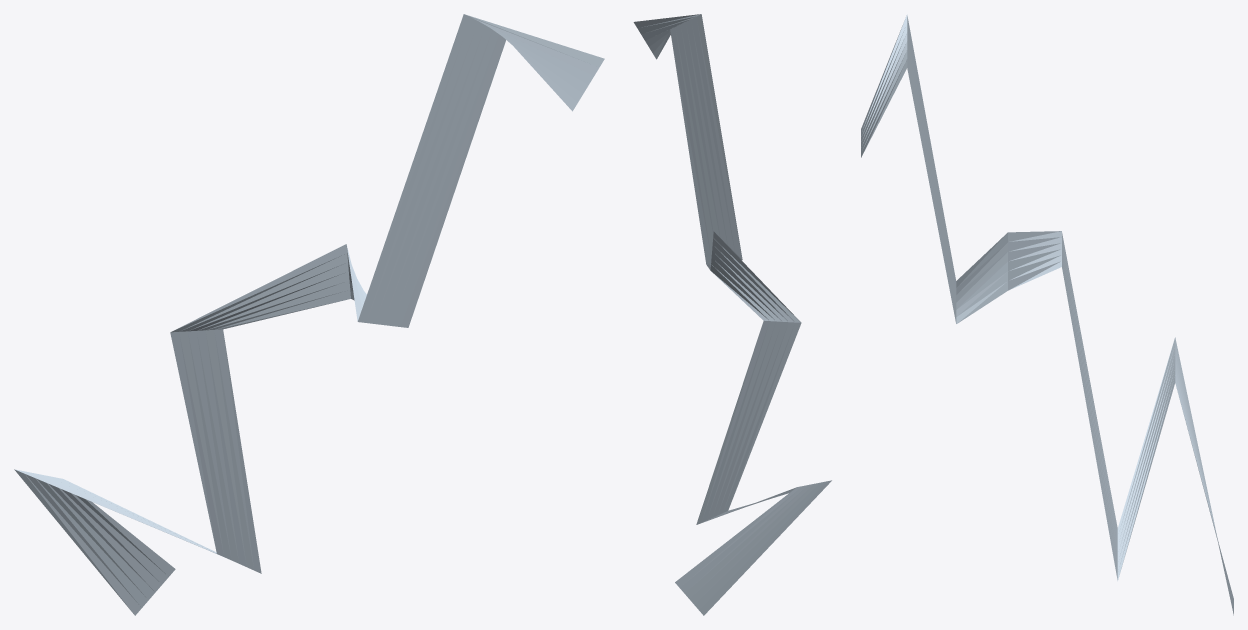
Rendered from 2059_ElectroSurround_SurroundArc4.fbx.
The picture shows the model from 3 angles, left to right: view 1: azimuth 30°, elevation 25°; view 2: azimuth 150°, elevation 25°; view 3: azimuth 270°, elevation 25°; orthographic projection. The views are drawn at different scales.
Visible parts, largest first — view 1: PART_SurroundArc4; view 2: PART_SurroundArc4; view 3: PART_SurroundArc4.
Part boxes in pixels (x1=…): PART_SurroundArc4: x1=14, y1=14, x2=604, y2=615; PART_SurroundArc4: x1=633, y1=14, x2=831, y2=615; PART_SurroundArc4: x1=861, y1=14, x2=1233, y2=615.
Bounding box in the file's own units: 35.54 × 53.2 × 26.31.
